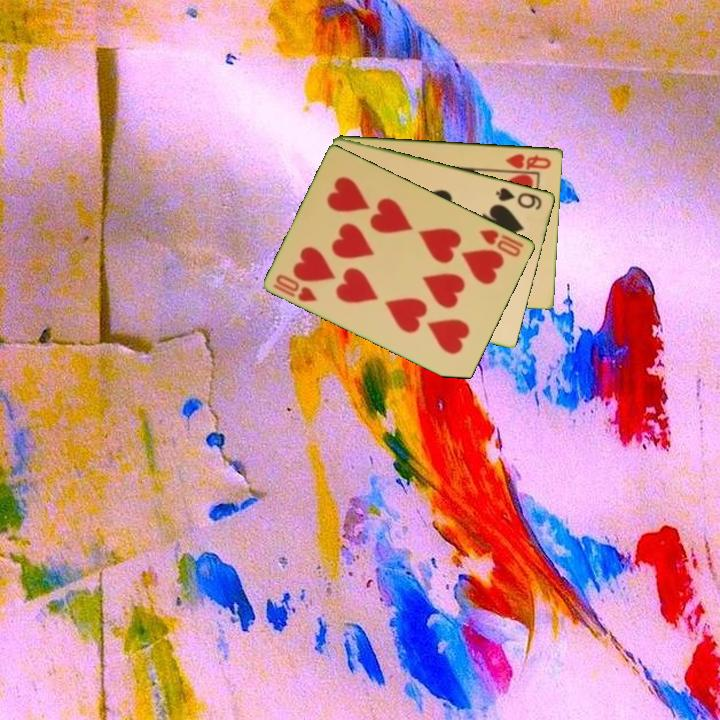10h: (269, 270, 321, 305), (476, 225, 527, 260)
6s: (492, 184, 545, 213)
Qh: (502, 150, 554, 172)
